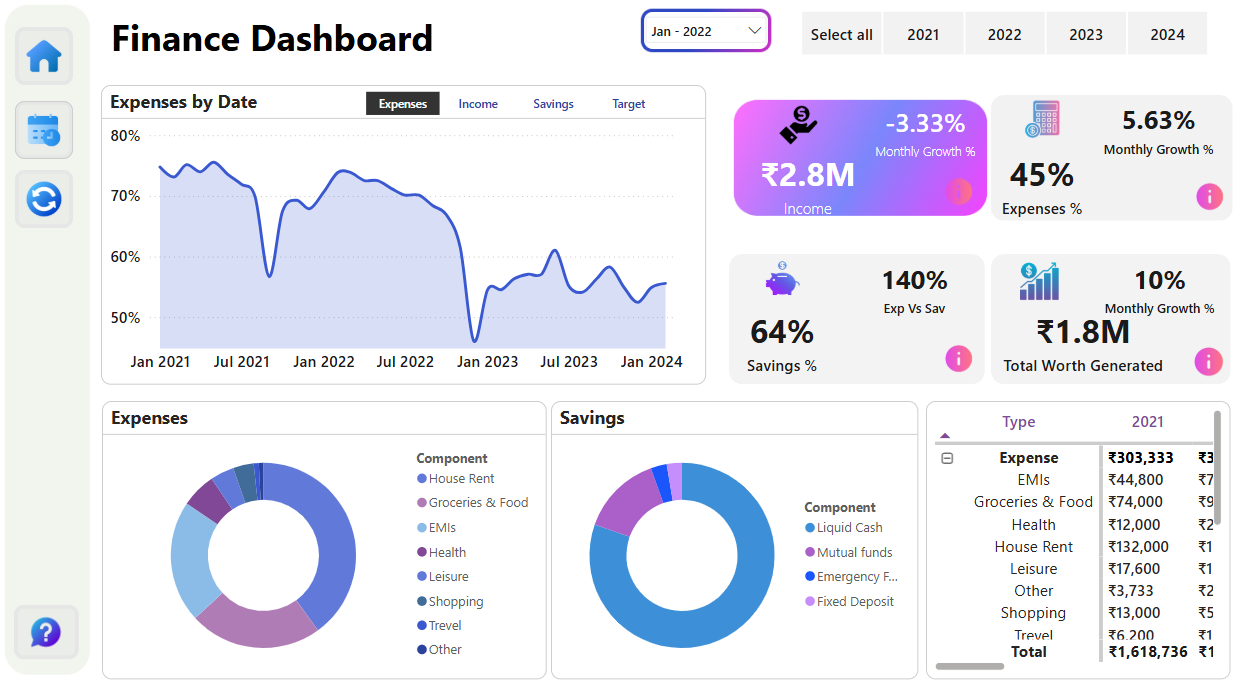

This screenshot's page, from the dashboard's own definition file:
{"tool":"powerbi","page":{"name":"Financial Dashboard","canvas":[1280,720],"ordinal":1},"visuals":[{"type":"image","box":[0,0,98.3,702.7],"z":0},{"type":"image","box":[15.7,104.3,60,60],"z":1000},{"type":"shape","box":[1025.3,98.2,250,130],"z":2000},{"type":"image","box":[753.8,98.4,271.8,130],"z":3000},{"type":"shape","box":[1025.3,263,248,134.8],"z":4000},{"type":"shape","box":[754,263,264.7,134.8],"z":5000},{"type":"image","box":[658.2,0,145.5,62.7],"z":6000},{"type":"areaChart","fields":{"Category":["FinData.Date"],"Y":["FinData.Line_Chart_Measures"]},"box":[104.9,88.2,625.9,309.6],"z":7000},{"type":"card","fields":{"Values":["FinData.Income"]},"box":[759.7,145.5,152.8,79.3],"z":8000},{"type":"card","fields":{"Values":["FinData.Expenses %"]},"box":[1028.7,149.8,99.9,79.9],"z":9000},{"type":"card","fields":{"Values":["FinData.Savings %"]},"box":[759,312.9,99.9,79.9],"z":10000},{"type":"card","fields":{"Values":["FinData.Savings"]},"box":[1025.3,312.9,191.4,79.9],"z":11000},{"type":"slicer","fields":{"Values":["FinData.Year"]},"box":[804,5,469.4,58.3],"z":12000},{"type":"donutChart","title":"Savings","fields":{"Y":["FinData.Savings"],"Category":["FinData.Component"]},"box":[570,415,380,287.5],"z":13000},{"type":"donutChart","title":"Expenses","fields":{"Category":["FinData.Component"],"Y":["FinData.Expenses"]},"box":[105,415,460,287.5],"z":14000},{"type":"pivotTable","fields":{"Values":["FinData.Total value"],"Rows":["FinData.Type","FinData.Component"],"Columns":["FinData.Year"]},"box":[957.5,415,315,287.5],"z":15000},{"type":"slicer","fields":{"Values":["Line_Selection_Table.Type"]},"box":[351.2,89.6,364.4,33.8],"z":16000},{"type":"slicer","fields":{"Values":["Selected Date.Month-Year"]},"box":[658.3,7.3,145.5,50],"z":17000},{"type":"card","fields":{"Values":["FinData.Expenses Monthly Growth"]},"box":[895.5,104.9,123.2,63.3],"z":18000},{"type":"card","fields":{"Values":["FinData.Income Monthly Growth"]},"box":[1125.2,98.2,146.5,69.9],"z":19000},{"type":"card","fields":{"Values":["FinData.Savings Monthly Growth"]},"box":[1125.2,263,148.1,69.9],"z":20000},{"type":"card","fields":{"Values":["FinData.Expenses Vs Savings"]},"box":[895.5,263,100,70],"z":21000},{"type":"image","box":[759,263,100,50],"z":22000},{"type":"image","box":[970.4,344.6,43.3,53.3],"z":23000},{"type":"image","box":[1228.4,349.5,44.9,48.3],"z":24000},{"type":"image","box":[1025.3,266.3,100,50],"z":25000},{"type":"image","box":[970.4,171.4,43.3,53.3],"z":26000},{"type":"image","box":[775.7,104.9,100,50],"z":27000},{"type":"image","box":[1230.1,176.4,43.3,53.3],"z":28000},{"type":"image","box":[1028.7,98.2,100,50],"z":29000},{"type":"textbox","box":[105,6.9,352.5,68.1],"z":30000},{"type":"image","box":[15.9,28.2,60,60],"z":31000},{"type":"image","box":[15.6,176.2,60,60],"z":32000},{"type":"image","box":[14.5,626,66.5,56.4],"z":33000},{"type":"actionButton","title":"Show","box":[15.7,104.3,60,60],"z":34000},{"type":"actionButton","title":"Refresh","box":[14.7,176.3,60.2,60.2],"z":37000}]}

Visuals, with their boxes in screenshot pixels (x1, y1, x2, y2), scaled from the page's 1280x720 canvas onto the 1260x691 screenshot:
image: x1=0 y1=0 x2=97 y2=674
image: x1=15 y1=100 x2=75 y2=158
shape: x1=1009 y1=94 x2=1255 y2=219
image: x1=742 y1=94 x2=1010 y2=219
shape: x1=1009 y1=252 x2=1253 y2=382
shape: x1=742 y1=252 x2=1003 y2=382
image: x1=648 y1=0 x2=791 y2=60
areaChart - FinData.Date x FinData.Line_Chart_Measures: x1=103 y1=85 x2=719 y2=382
card - FinData.Income: x1=748 y1=140 x2=898 y2=216
card - FinData.Expenses %: x1=1013 y1=144 x2=1111 y2=220
card - FinData.Savings %: x1=747 y1=300 x2=845 y2=377
card - FinData.Savings: x1=1009 y1=300 x2=1198 y2=377
slicer - FinData.Year: x1=791 y1=5 x2=1254 y2=61
"Savings" donutChart: x1=561 y1=398 x2=935 y2=674
"Expenses" donutChart: x1=103 y1=398 x2=556 y2=674
pivotTable - FinData.Total value x FinData.Type: x1=943 y1=398 x2=1253 y2=674
slicer - Line_Selection_Table.Type: x1=346 y1=86 x2=704 y2=118
slicer - Selected Date.Month-Year: x1=648 y1=7 x2=791 y2=55
card - FinData.Expenses Monthly Growth: x1=882 y1=101 x2=1003 y2=161
card - FinData.Income Monthly Growth: x1=1108 y1=94 x2=1252 y2=161
card - FinData.Savings Monthly Growth: x1=1108 y1=252 x2=1253 y2=319
card - FinData.Expenses Vs Savings: x1=882 y1=252 x2=980 y2=320
image: x1=747 y1=252 x2=846 y2=300
image: x1=955 y1=331 x2=998 y2=382
image: x1=1209 y1=335 x2=1253 y2=382
image: x1=1009 y1=256 x2=1108 y2=304
image: x1=955 y1=164 x2=998 y2=216
image: x1=764 y1=101 x2=862 y2=149
image: x1=1211 y1=169 x2=1254 y2=220
image: x1=1013 y1=94 x2=1111 y2=142
textbox: x1=103 y1=7 x2=450 y2=72
image: x1=16 y1=27 x2=75 y2=85
image: x1=15 y1=169 x2=74 y2=227
image: x1=14 y1=601 x2=80 y2=655
"Show" actionButton: x1=15 y1=100 x2=75 y2=158
"Refresh" actionButton: x1=14 y1=169 x2=74 y2=227
